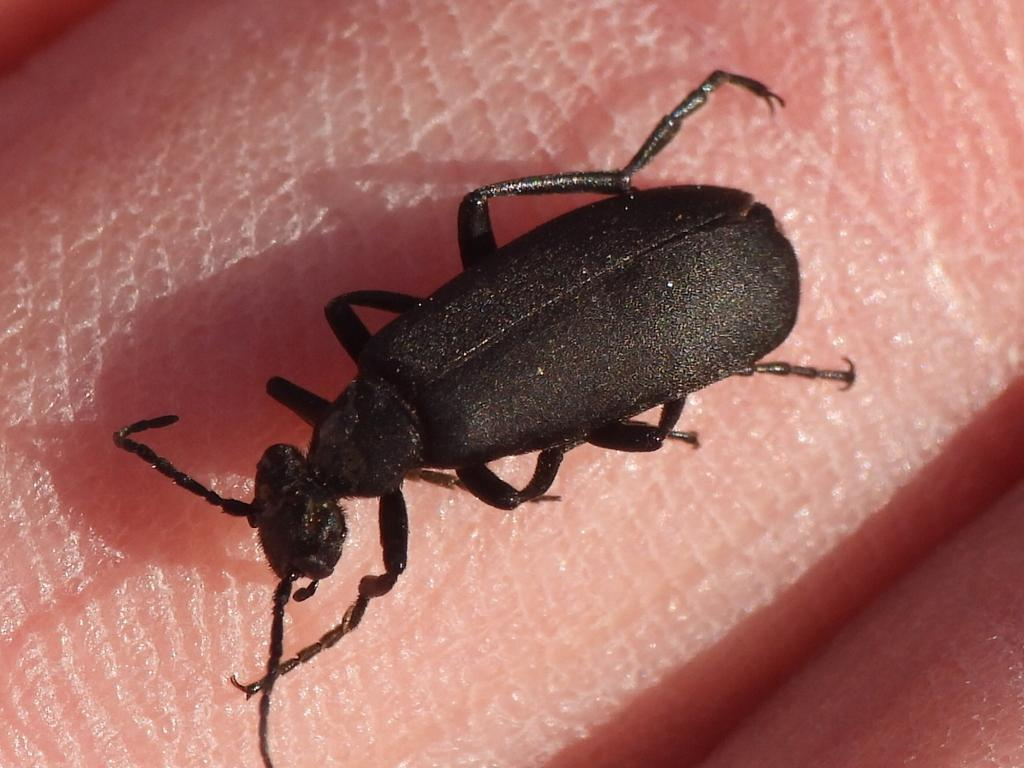blister_beetle: (25, 0, 961, 768)
